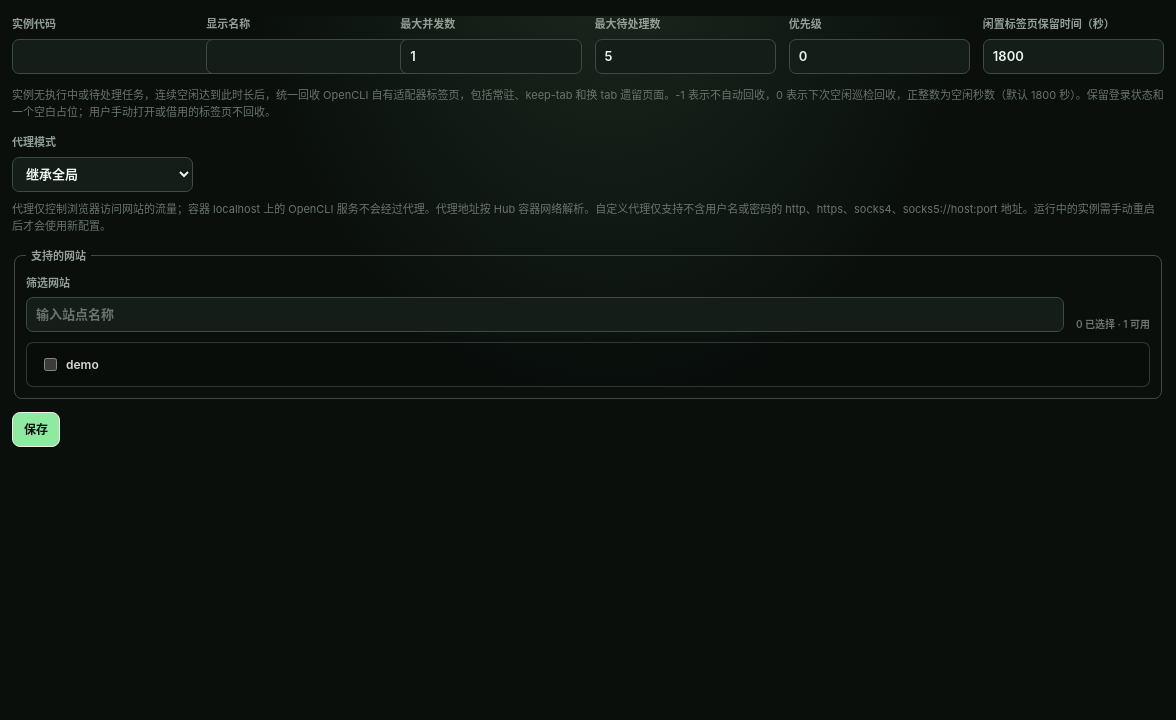
Test: InstanceForm › rejects an empty maxPending instead of treating it as zero
Check: the checkbox labelled "demo" is shown, box [44, 358, 57, 371]
Type "inst-empty" into the field labelled "实例代码" at (125, 56), box [12, 38, 238, 74]
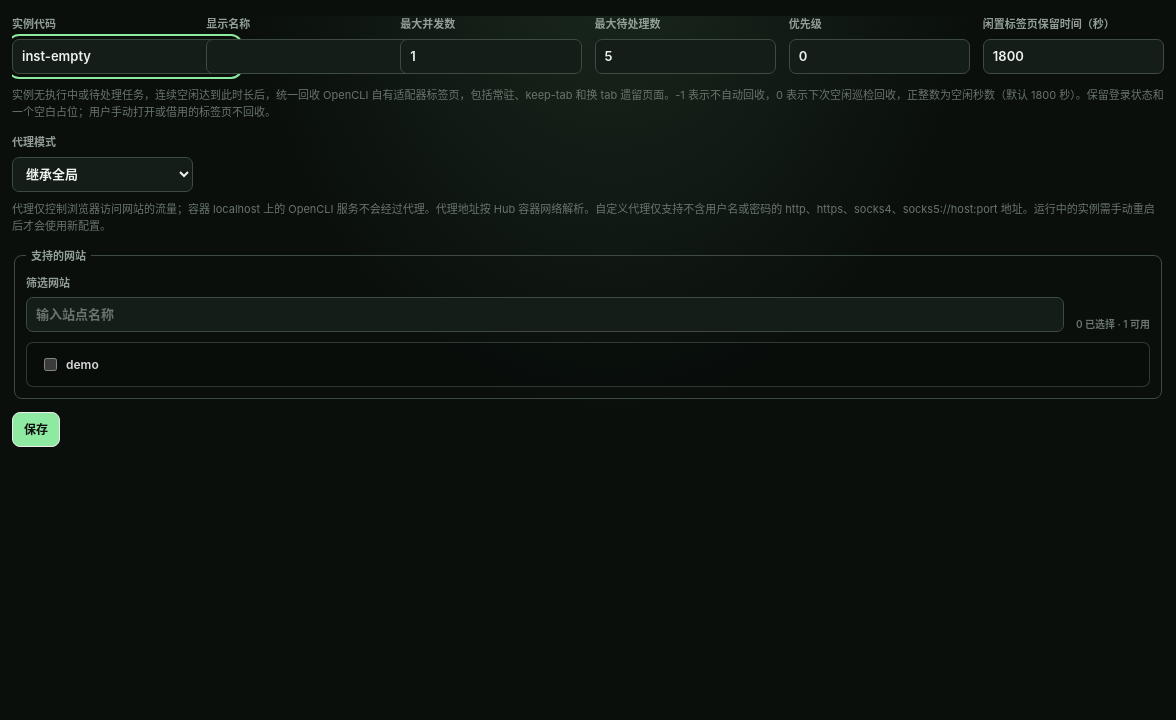
Type "Empty Pending" into the field labelled "显示名称" at (319, 56), box [206, 38, 432, 74]
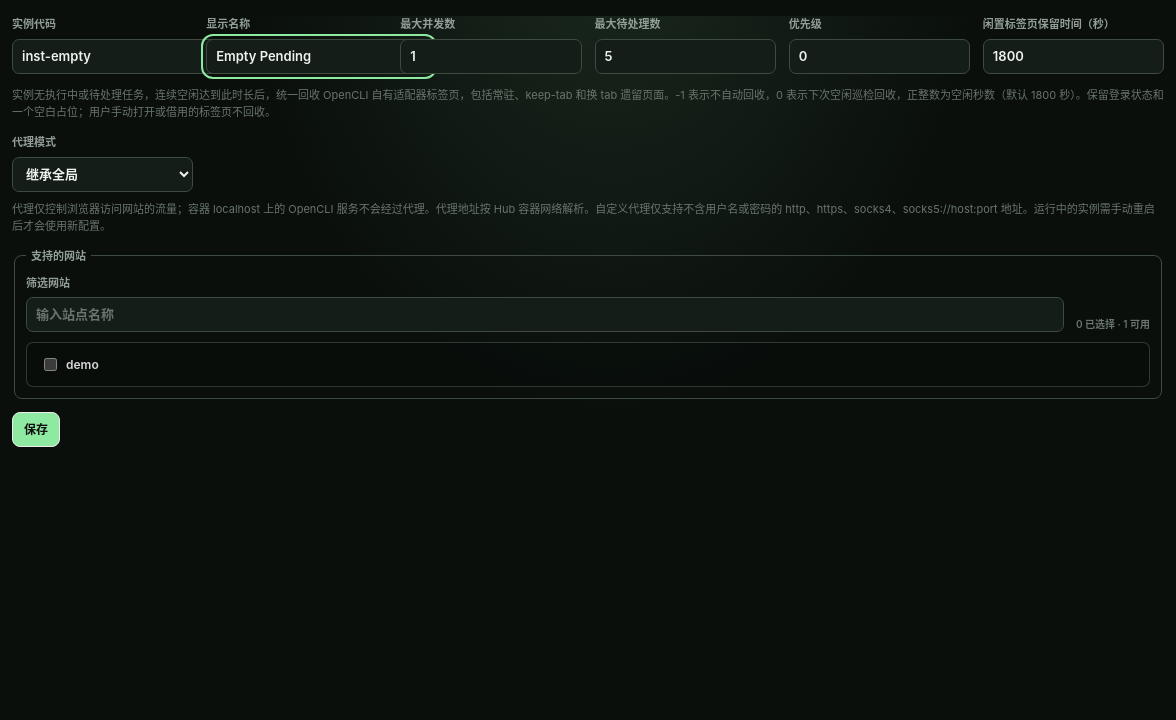
Click the checkbox labelled "demo" at (50, 365), box [44, 358, 57, 371]
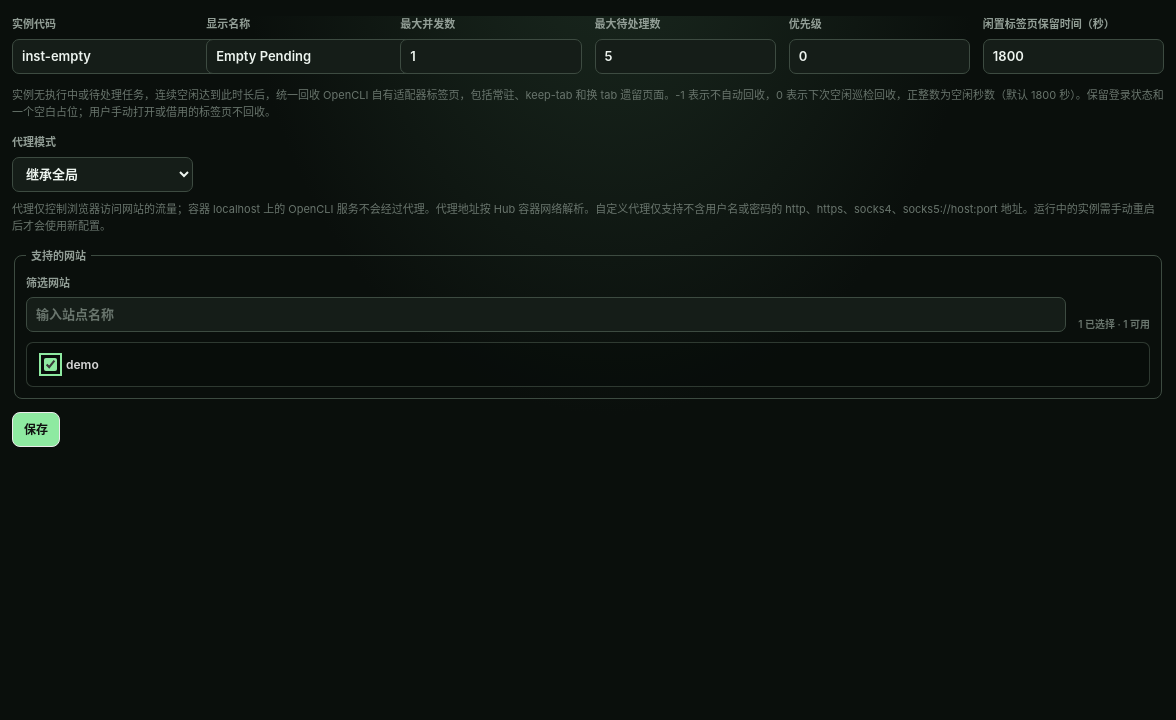
Clear the number field labelled "最大待处理数" at (685, 56), box [594, 38, 776, 74]
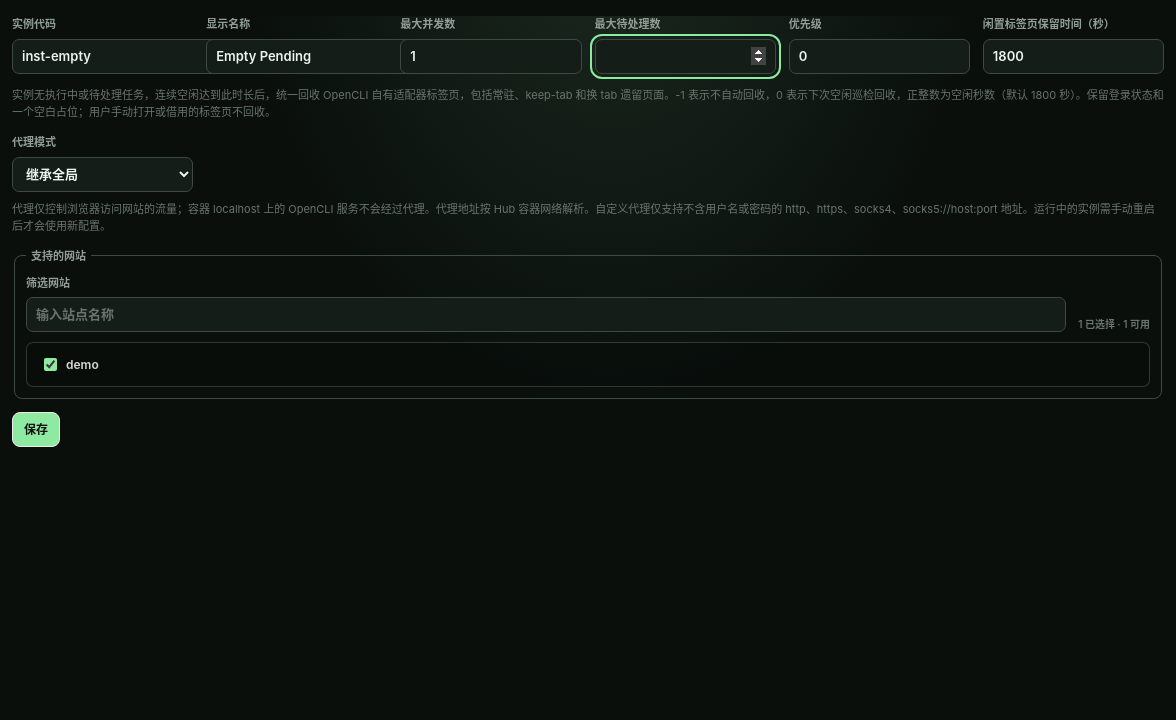
Click the button "保存" at (36, 430), box [12, 412, 60, 447]
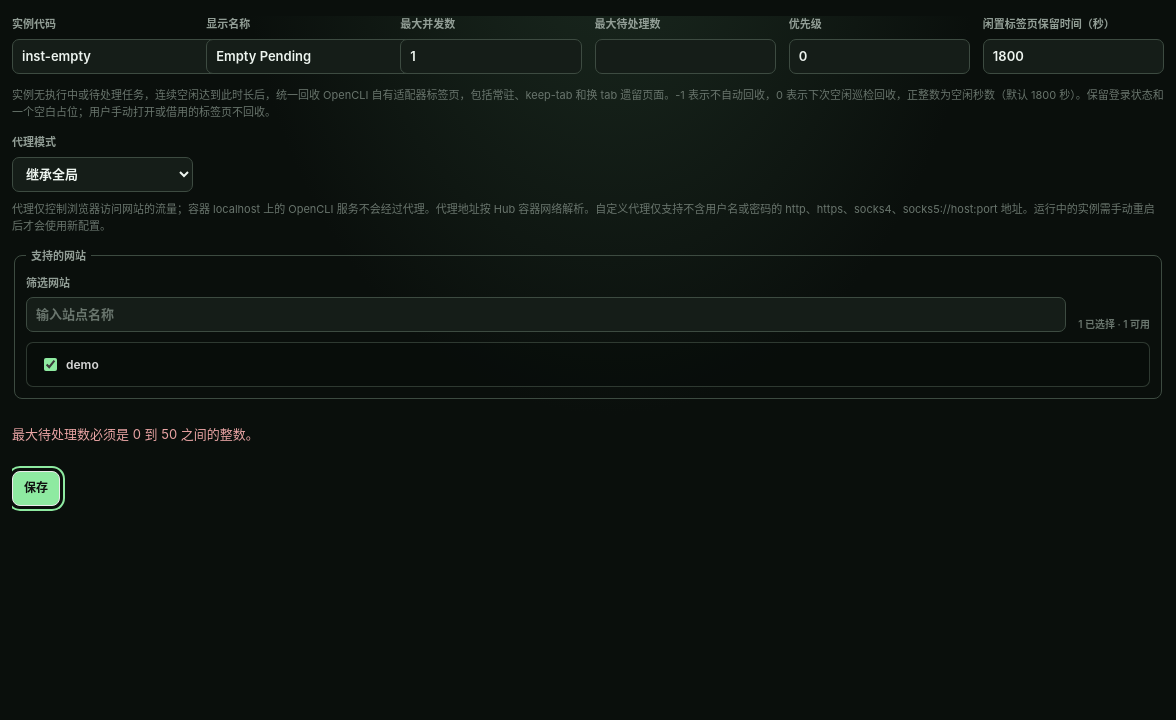
Check: the message reads "最大待处理数必须是 0 到 50 之间的整数。", box [12, 426, 259, 442]
